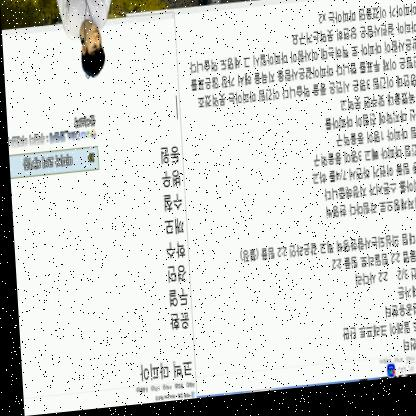streamer: (55, 0, 120, 83)
